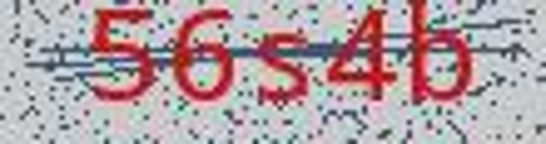4: (321, 1, 400, 112)
5: (78, 1, 160, 117)
6: (168, 2, 244, 106)
b: (402, 1, 479, 114)
s: (248, 25, 316, 108)
